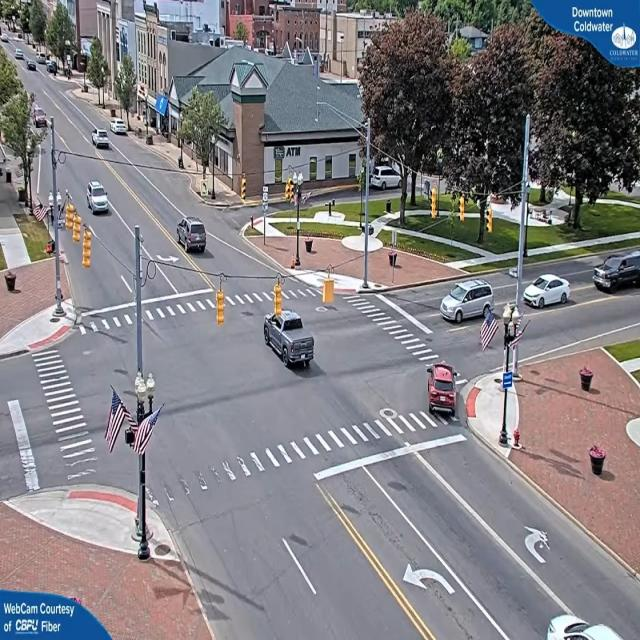car: (262, 310, 316, 368), (441, 278, 496, 327), (592, 252, 640, 295), (523, 272, 571, 309), (426, 362, 460, 413), (177, 217, 210, 254), (86, 183, 112, 214), (91, 129, 110, 149), (111, 120, 129, 136), (27, 60, 38, 71), (16, 50, 26, 62)
